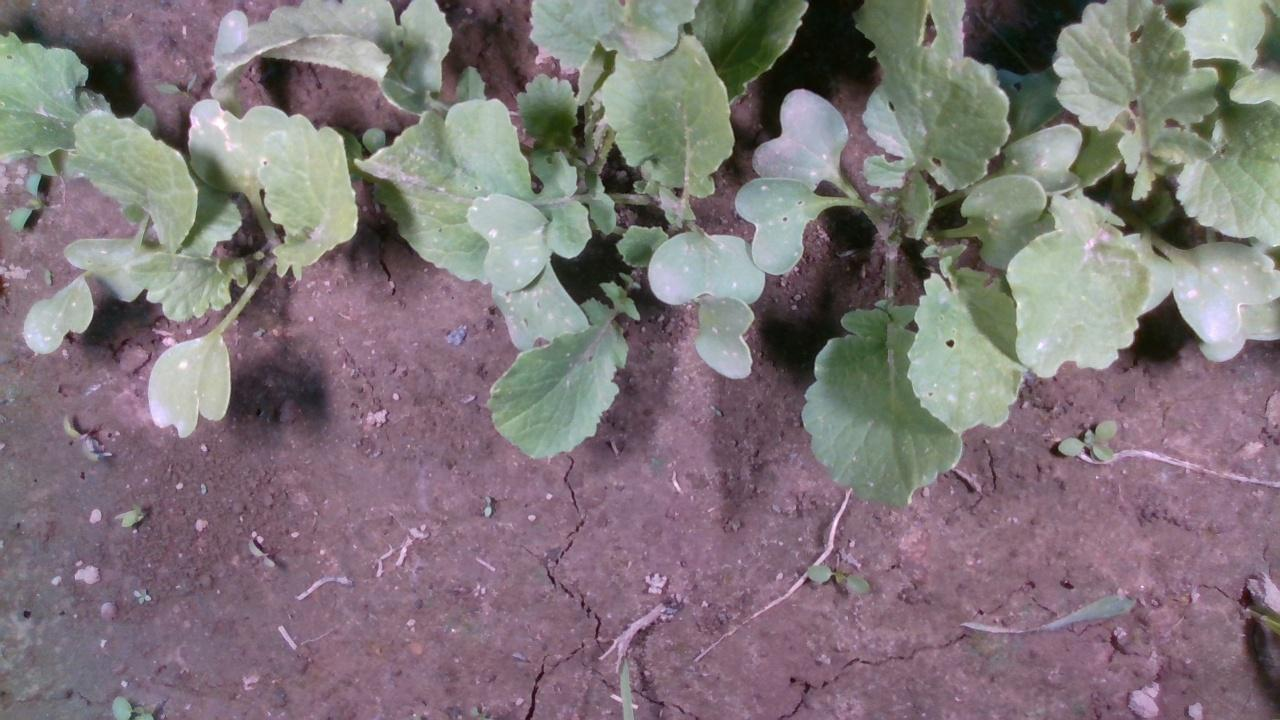weed: (1053, 416, 1117, 463), (806, 563, 872, 595)
